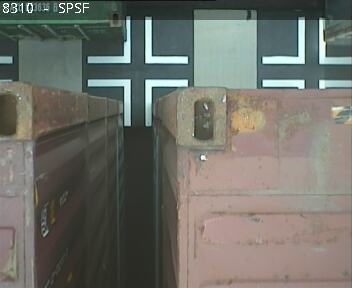groundmarker_1: (87, 16, 188, 64), (87, 78, 187, 126), (262, 16, 351, 64)
